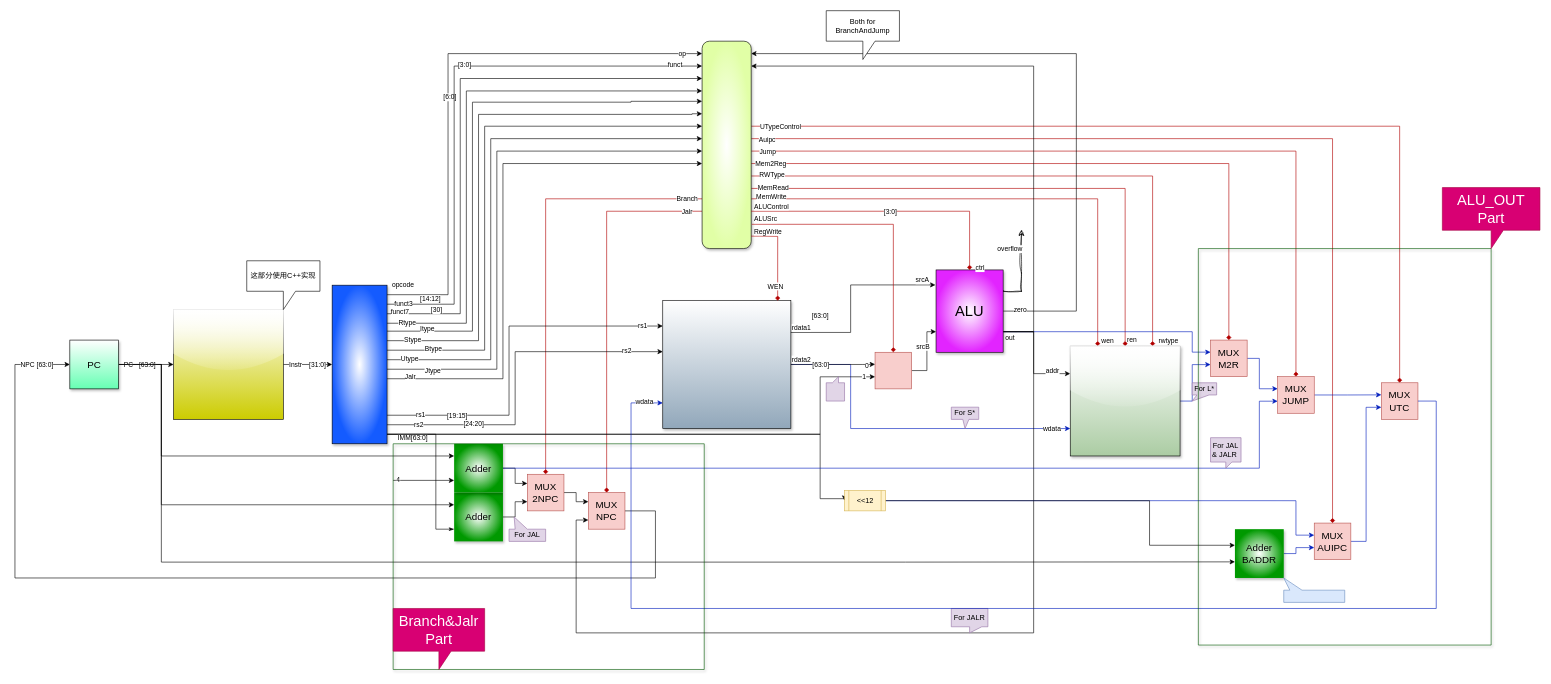
Image size: 1551x684. Some labels were removed from this diagram. Each missing label, with the centre of its shape:
Branch Adder: (x=1314, y=589)
Control Unit: (x=727, y=145)
DataMemory: (x=1125, y=401)
Decode: (x=360, y=365)
For *i: (x=835, y=388)
InstMemory: (x=228, y=364)
MUX ALUB: (x=893, y=370)
RegisterFile: (x=727, y=365)
